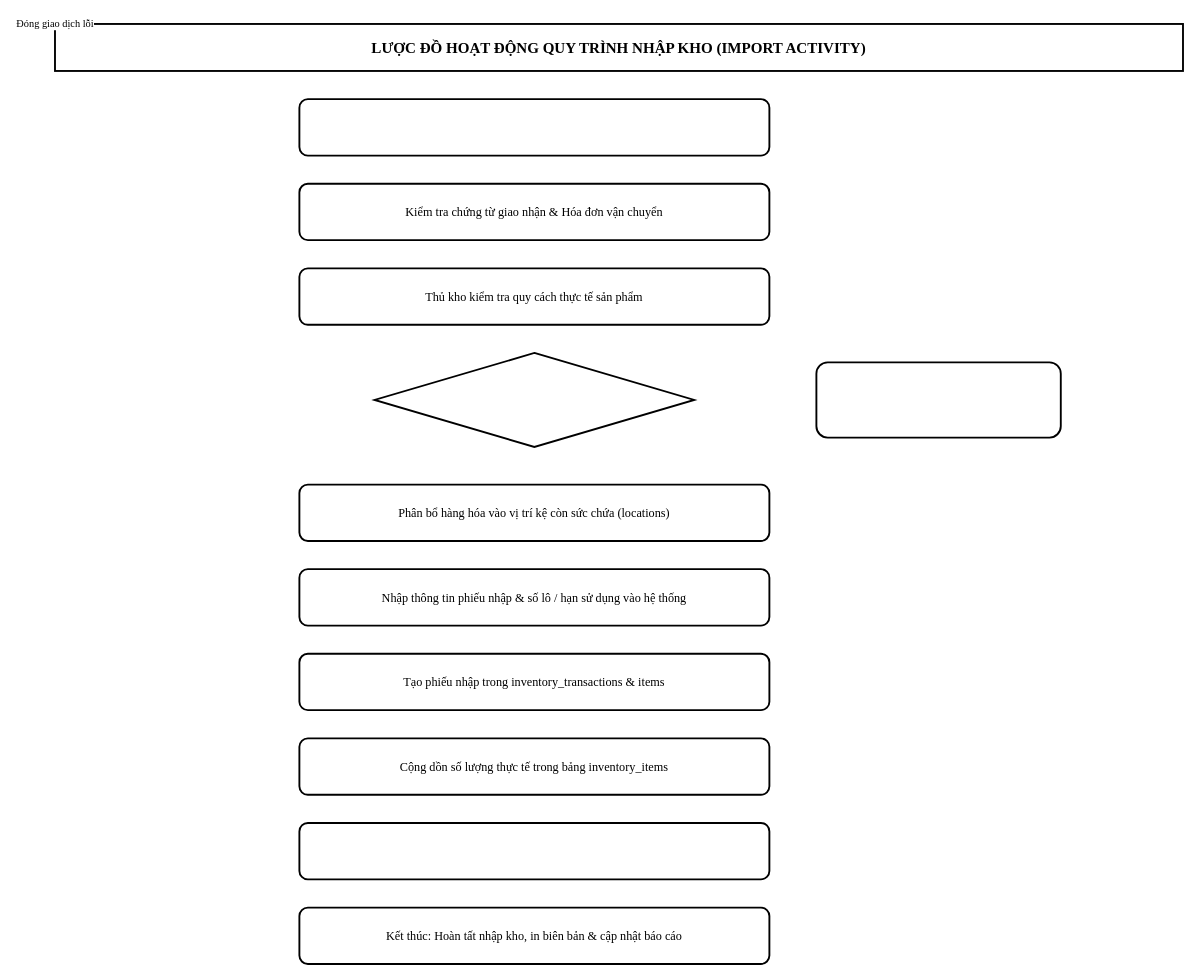
Some shapes in this 1199 by 980 pixel diagram are drawn without their labels. The shapes that lost their labels are listed below. From the top down, each one's centre as x and y in pixels, then its label:
At [534,127]: "Khởi đầu: Hàng cập bến kho từ Nhà cung cấp".
At [534,399]: "Quy cách đạt chuẩn & Đầy đủ số lượng?".
At [938,399]: "TỪ CHỐI NHẬP HÀNG Lập biên bản sự cố lỗi & Hoàn trả Nhà cung cấp".
At [534,851]: "Ghi nhận nhật ký kiểm toán Audit Log & Cập nhật Realtime KPI".
